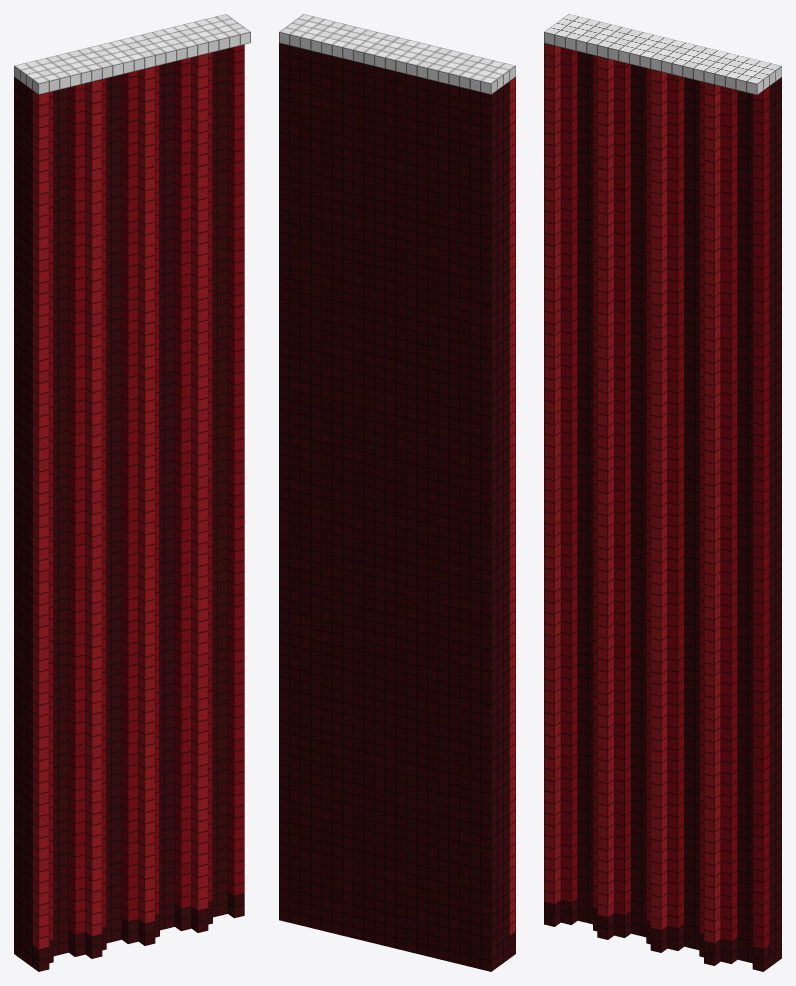
File: curtain_panel.glb
The picture shows the model from 3 angles, left to right: view 1: azimuth 30°, elevation 25°; view 2: azimuth 150°, elevation 25°; view 3: azimuth 330°, elevation 25°; orthographic projection.
Visible parts, largest first — view 1: curtain_panel; view 2: curtain_panel; view 3: curtain_panel.
Part boxes in pixels (bbox=[...]): curtain_panel: bbox=[14, 14, 250, 971]; curtain_panel: bbox=[279, 14, 515, 971]; curtain_panel: bbox=[544, 14, 781, 971].
Bounding box in the file's own units: 1 × 4 × 0.2.
Materials: 4 (4 with a texture image).
